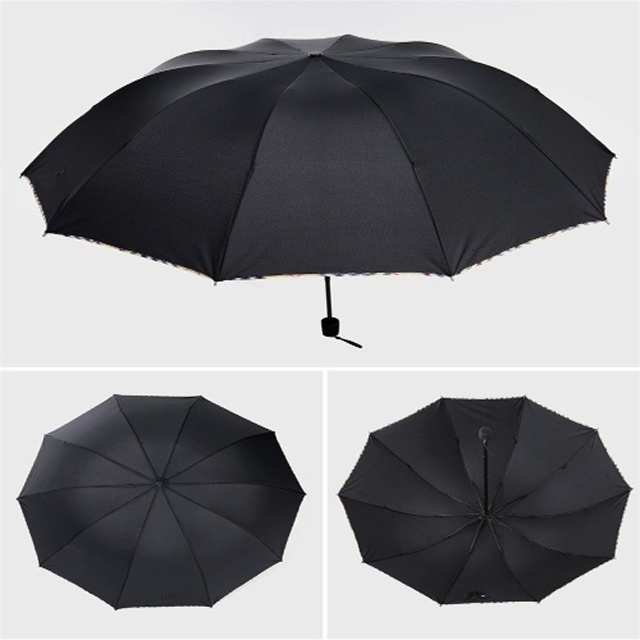umbrella: (15, 31, 619, 351), (14, 390, 309, 610), (335, 394, 635, 610)
